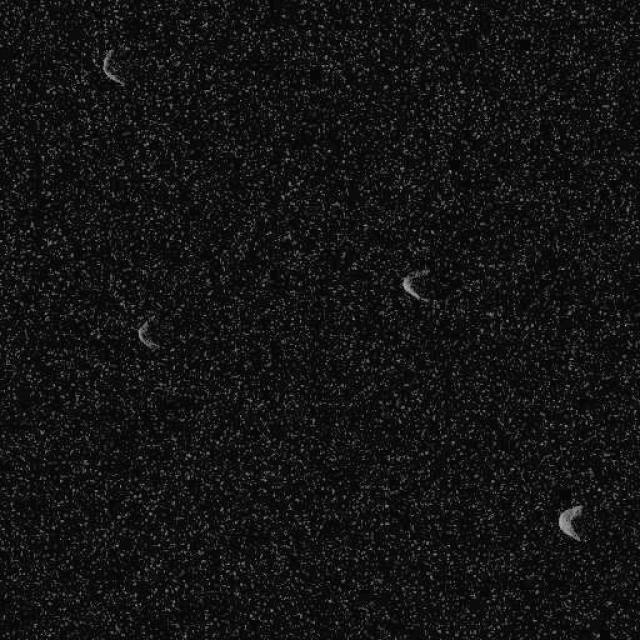D2: (400, 268, 435, 304), (556, 502, 584, 542), (100, 46, 126, 86), (135, 314, 161, 351)
